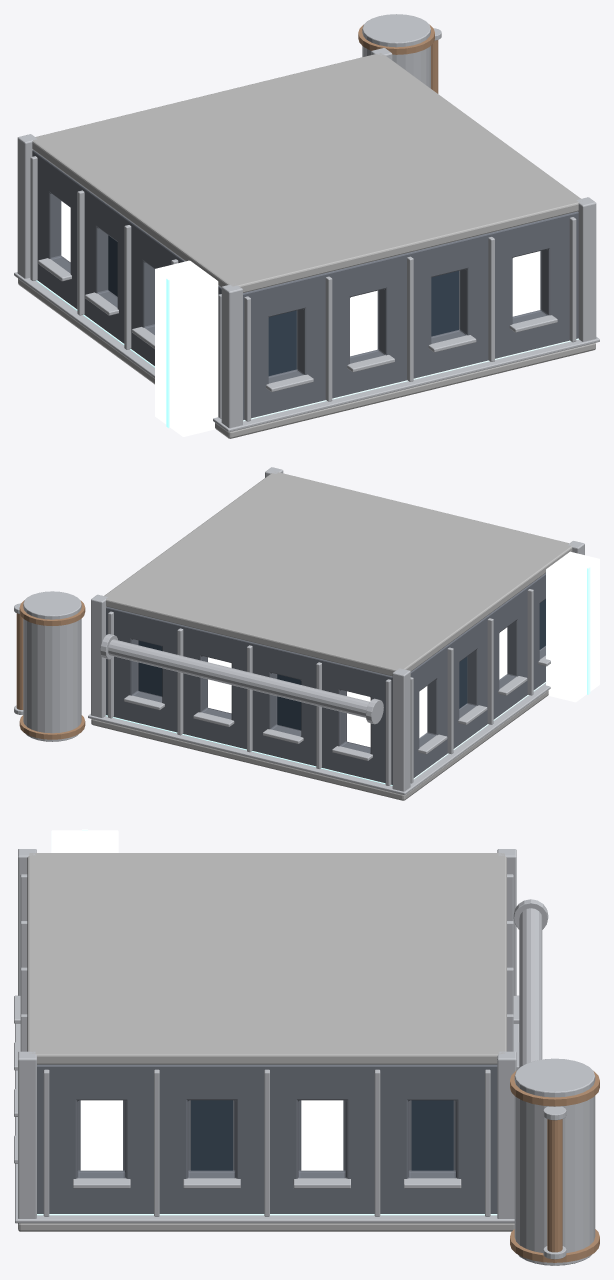
File: svc_5x5.glb
3 renders of one model, top to bottom at view 1: azimuth 30°, elevation 25°; view 2: azimuth 150°, elevation 25°; view 3: azimuth 270°, elevation 25°, orthographic. The views are drawn at different scales.
Parts seen in each view (by area): view 1: int_ceiling, ext_wall, ext_frames, ext_lift, int_columns, int_slab_edge, ext_panes_lit, ext_panes_dark, int_slab, ext_svc_tower, int_grid, ext_svc_ring2 (+1 smaller); view 2: int_ceiling, ext_wall, ext_frames, ext_svc_tower, ext_lift, ext_duct, int_columns, int_slab_edge, int_slab, ext_panes_lit, ext_panes_dark, ext_svc_pipe (+4 smaller); view 3: int_ceiling, ext_wall, ext_svc_tower, ext_frames, int_columns, ext_panes_lit, ext_panes_dark, int_slab_edge, int_slab, ext_duct, ext_svc_pipe, ext_lift (+3 smaller).
Part boxes in pixels (x1=…): int_ceiling: x1=32, y1=53, x2=582, y2=292; ext_wall: x1=32, y1=150, x2=578, y2=420; ext_frames: x1=30, y1=156, x2=576, y2=421; ext_lift: x1=155, y1=260, x2=218, y2=436; int_columns: x1=17, y1=48, x2=596, y2=428; int_slab_edge: x1=14, y1=272, x2=599, y2=432; ext_panes_lit: x1=61, y1=201, x2=540, y2=356; ext_panes_dark: x1=108, y1=235, x2=458, y2=375; int_slab: x1=18, y1=278, x2=595, y2=438; ext_svc_tower: x1=362, y1=14, x2=430, y2=88; int_grid: x1=36, y1=280, x2=578, y2=421; ext_svc_ring2: x1=358, y1=24, x2=434, y2=54; int_ceiling: x1=104, y1=472, x2=572, y2=676; ext_wall: x1=106, y1=573, x2=545, y2=784; ext_frames: x1=108, y1=589, x2=550, y2=785; ext_svc_tower: x1=23, y1=591, x2=81, y2=741; ext_lift: x1=546, y1=551, x2=599, y2=702; ext_duct: x1=108, y1=639, x2=369, y2=717; int_columns: x1=91, y1=467, x2=584, y2=791; int_slab_edge: x1=88, y1=683, x2=550, y2=795; int_slab: x1=91, y1=690, x2=548, y2=800; ext_panes_lit: x1=208, y1=627, x2=507, y2=747; ext_panes_dark: x1=138, y1=599, x2=545, y2=730; ext_svc_pipe: x1=16, y1=613, x2=23, y2=709; int_ceiling: x1=27, y1=853, x2=506, y2=1064; ext_wall: x1=37, y1=1064, x2=497, y2=1213; ext_svc_tower: x1=514, y1=1058, x2=595, y2=1265; ext_frames: x1=14, y1=874, x2=519, y2=1216; int_columns: x1=18, y1=849, x2=516, y2=1218; ext_panes_lit: x1=80, y1=1100, x2=343, y2=1170; ext_panes_dark: x1=191, y1=1100, x2=453, y2=1170; int_slab_edge: x1=15, y1=1023, x2=519, y2=1223; int_slab: x1=18, y1=1223, x2=514, y2=1231; ext_duct: x1=519, y1=908, x2=542, y2=1067; ext_svc_pipe: x1=547, y1=1119, x2=562, y2=1252; ext_lift: x1=51, y1=830, x2=118, y2=852.
Size of the model in its own units: 6.69 by 2 by 6.11.
